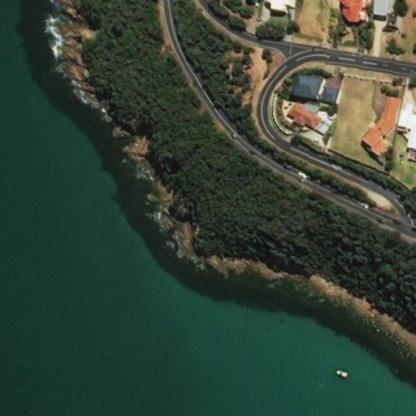ship: (335, 368, 347, 377)
